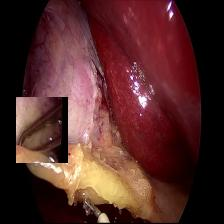Grasper: (16, 97, 68, 163)
Hook: (80, 197, 112, 224)
